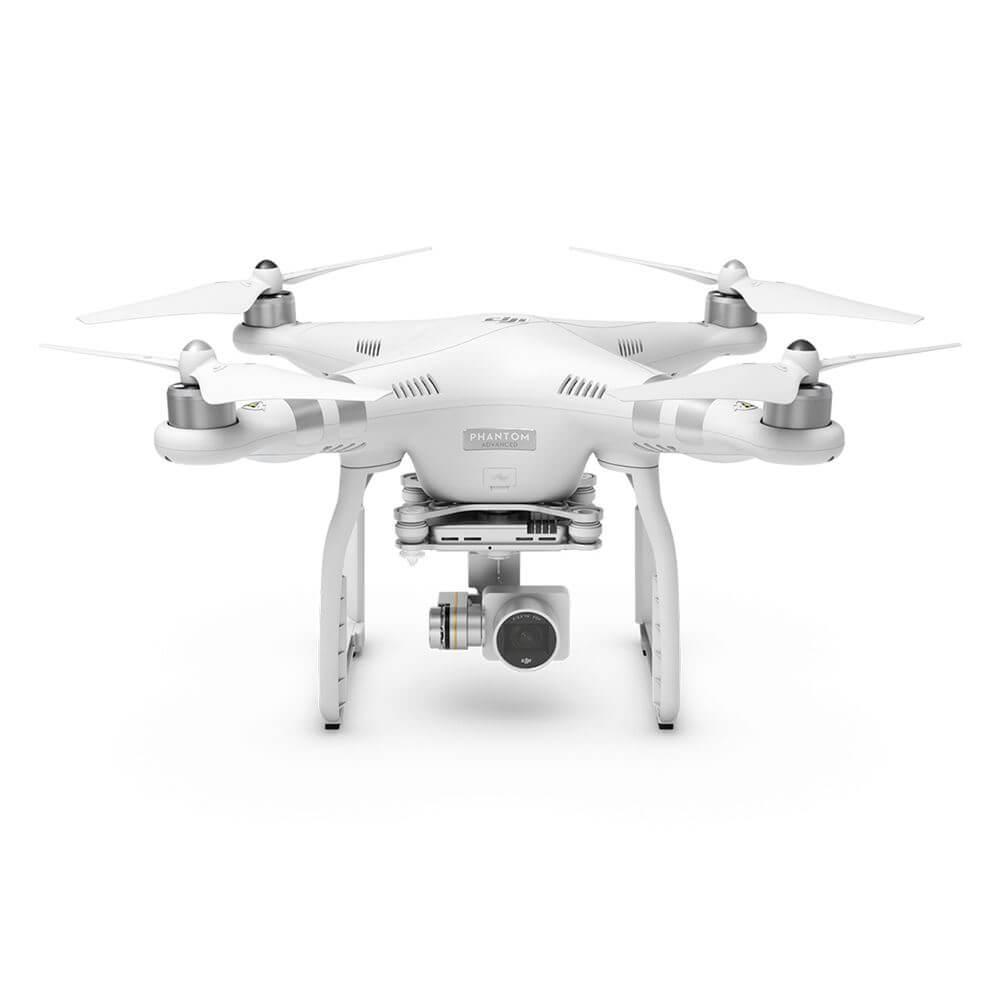drone: (71, 225, 967, 558)
